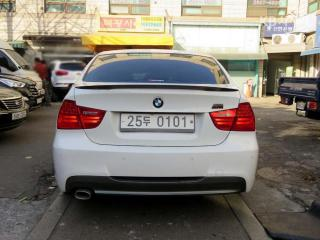0: (172, 115, 181, 127), (157, 115, 164, 127)
1: (165, 115, 172, 128), (181, 115, 187, 128)
2: (127, 115, 135, 127)
5: (134, 115, 143, 127)
plate: (116, 109, 199, 136)
두: (143, 115, 151, 127)
